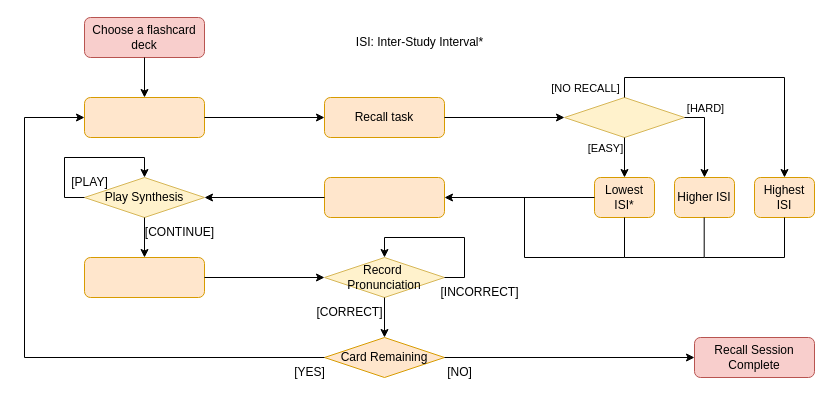
Some shapes in this 832 by 405 pixel diagram are drawn without their labels. The shapes that lost their labels are listed below. From the top down, each one's centre as x and y in pixels, then its label:
At point 144,117: "Next Card".
At point 624,117: "Select difficulty".
At point 384,197: "Synthesis task".
At point 144,277: "Pronunciation task".
